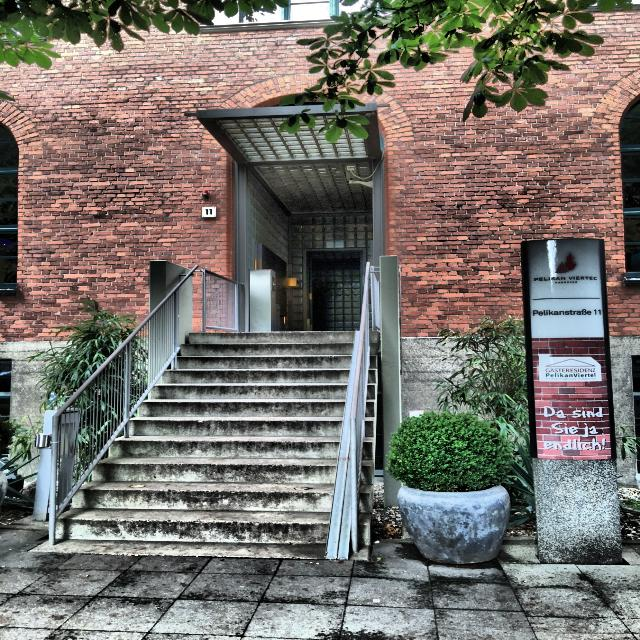escada: (49, 328, 350, 562)
